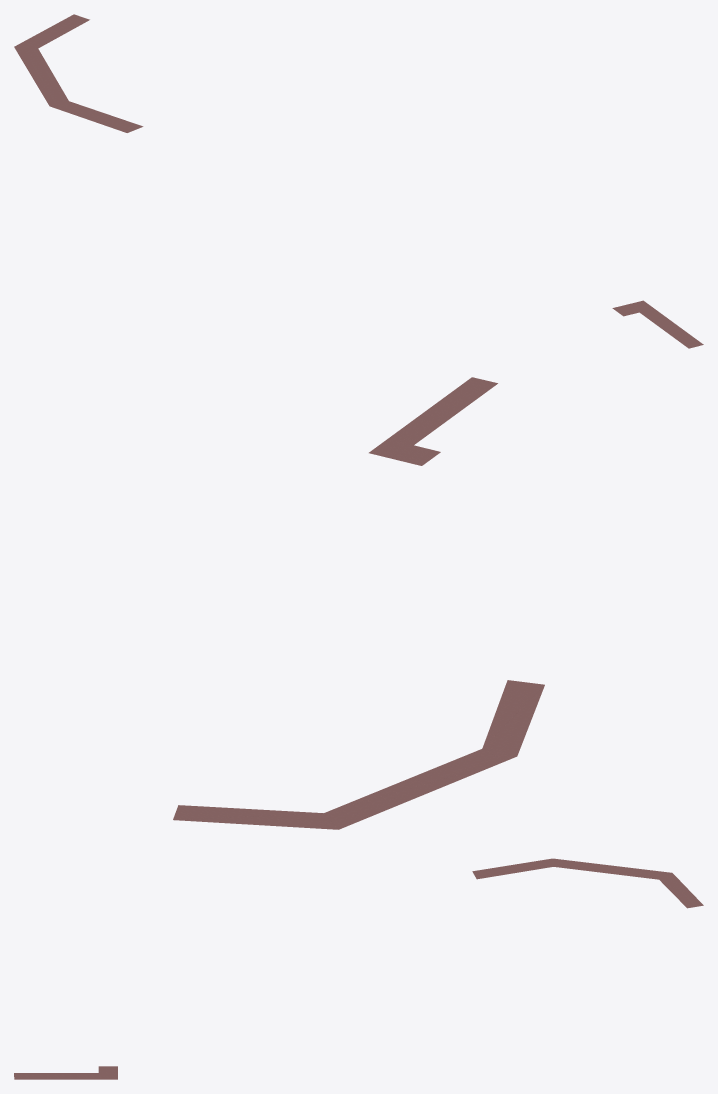
The model's file is kd_stage_1364a3_11_33.glb.
3 views of the same model, one above another, from view 1: azimuth 30°, elevation 25°; view 2: azimuth 150°, elevation 25°; view 3: azimuth 270°, elevation 25° (orthographic). The views are drawn at different scales.
Parts seen in each view (by area): view 1: kd_stage_1364a3_11_33; view 2: kd_stage_1364a3_11_33; view 3: kd_stage_1364a3_11_33.
Boxes of the visible parts, x1,y1,x2,y2 form: kd_stage_1364a3_11_33: (14,14,703,348); kd_stage_1364a3_11_33: (173,377,544,829); kd_stage_1364a3_11_33: (14,858,703,1079).
Bounding box in the file's own units: 54.16 × 13.94 × 111.
1 material, 1 textured.
